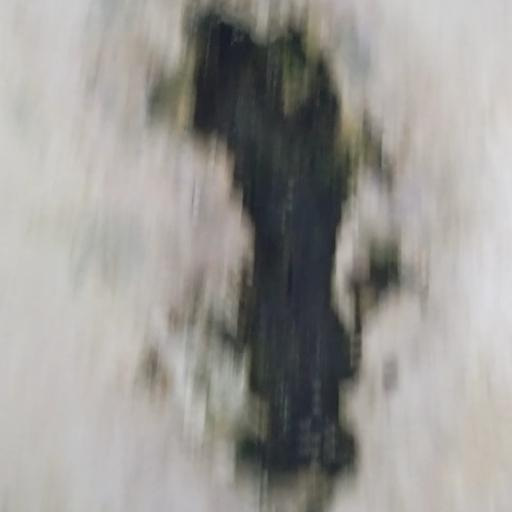algae: (108, 0, 433, 506)
